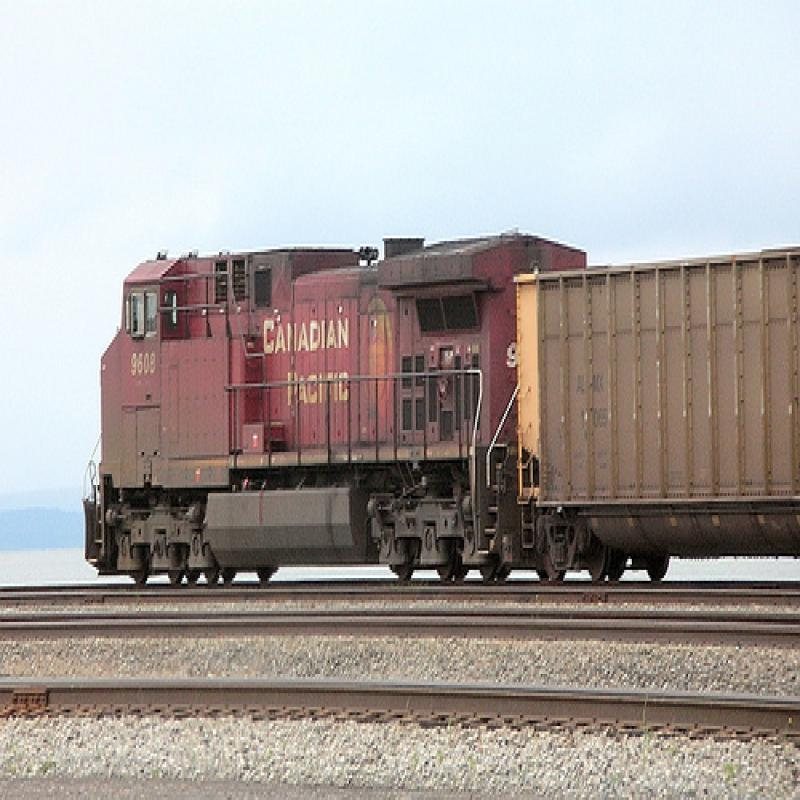train: (86, 234, 800, 587)
